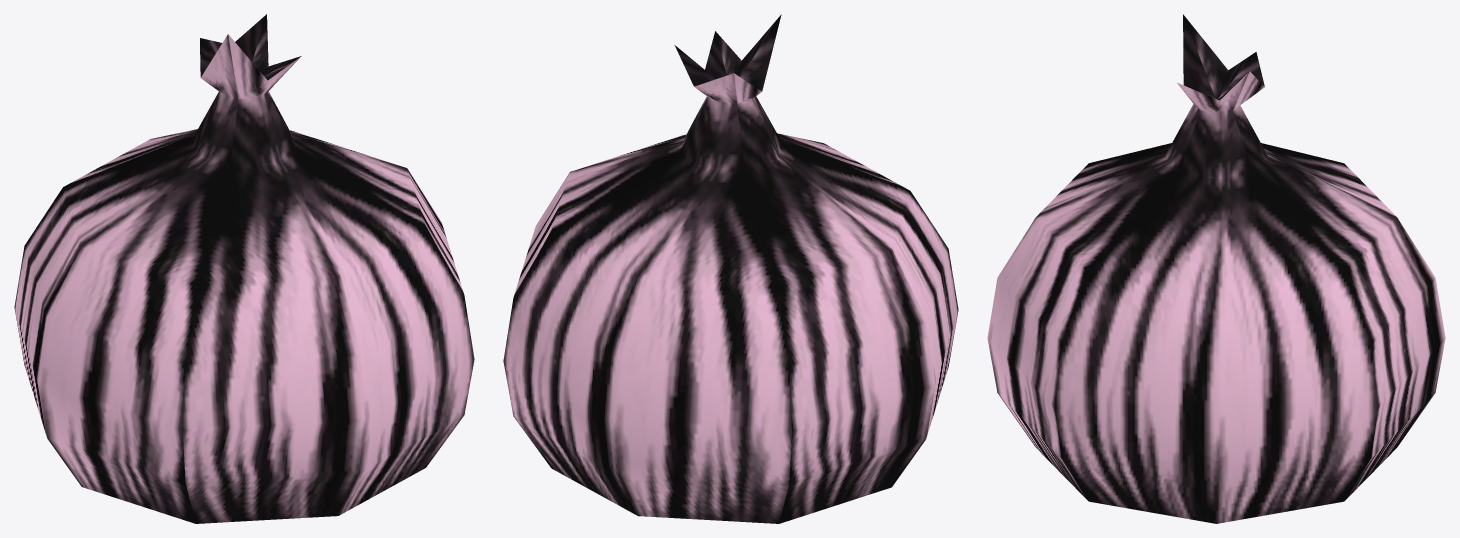
File: item-0501-color.glb
3 views of the same model, side by side, from view 1: azimuth 30°, elevation 25°; view 2: azimuth 150°, elevation 25°; view 3: azimuth 270°, elevation 25° (orthographic). The views are drawn at different scales.
Parts seen in each view (by area): view 1: role_0; view 2: role_0; view 3: role_0.
Part boxes in pixels (bbox=[...]): role_0: bbox=[14, 14, 474, 523]; role_0: bbox=[503, 14, 958, 523]; role_0: bbox=[987, 14, 1445, 523].
Bounding box in the file's own units: 0.6602 × 0.7253 × 0.6602.
1 material, 1 textured.
